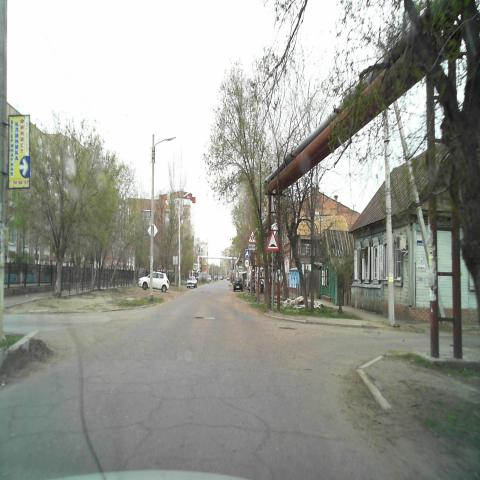1_17: (267, 231, 278, 250)
1_23: (248, 229, 256, 242)
3_24: (245, 259, 249, 267)
5_20: (244, 248, 250, 260)
